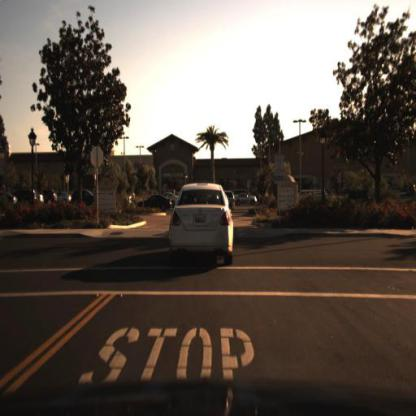car: (167, 184, 239, 272), (140, 195, 176, 216), (71, 188, 98, 209), (222, 187, 238, 211), (234, 193, 257, 209), (233, 190, 258, 204)
